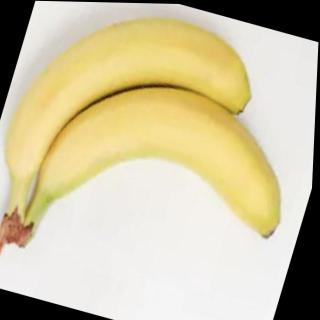banana: (0, 0, 271, 231), (32, 55, 314, 253)
